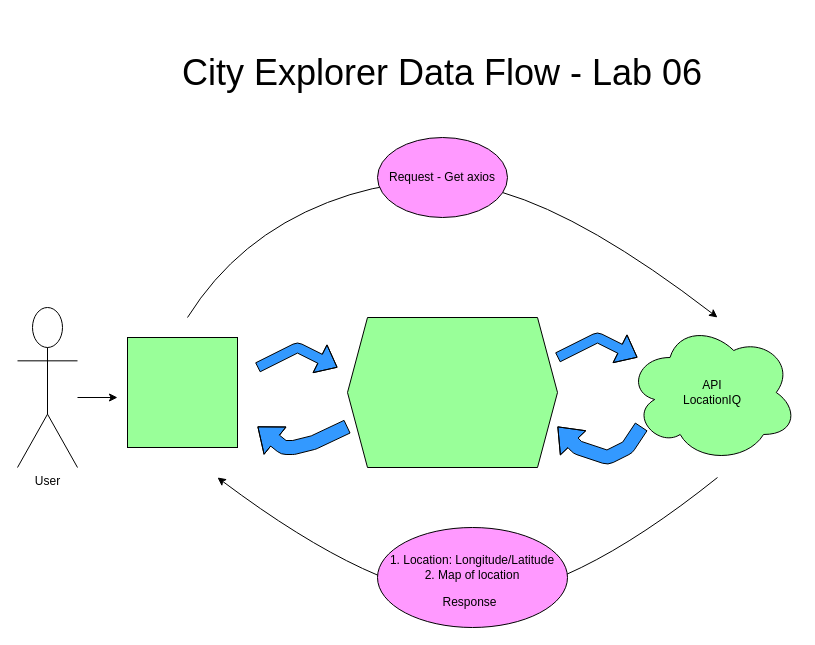
This 815x645 diagram has some shape labels left out. The shapes that lost their labels are listed below. From the top down, each one's centre as x and y in pixels, then its label:
the point at 182,392: Our React Web App City Explorer
the point at 452,392: HTTP Web Server
